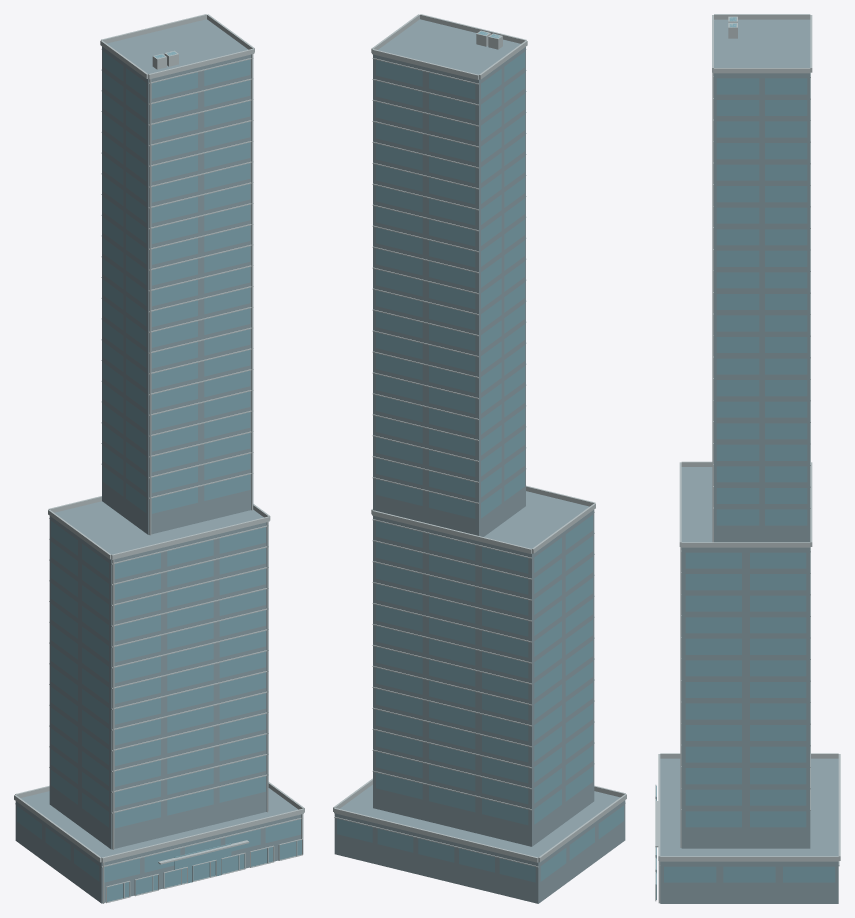
Rendered from commercial_4x3_tower_offset.glb.
3 renders of one model, left to right at view 1: azimuth 30°, elevation 25°; view 2: azimuth 150°, elevation 25°; view 3: azimuth 270°, elevation 25°, orthographic. The views are drawn at different scales.
Parts seen in each view (by area): view 1: commercial_4x3_tower_offset_0; view 2: commercial_4x3_tower_offset_0; view 3: commercial_4x3_tower_offset_0.
Boxes of the visible parts, x1,y1,x2,y2 form: commercial_4x3_tower_offset_0: [14, 14, 304, 903]; commercial_4x3_tower_offset_0: [333, 14, 626, 903]; commercial_4x3_tower_offset_0: [655, 14, 840, 903].
Size of the model in its own units: 31 by 116 by 23.4.
